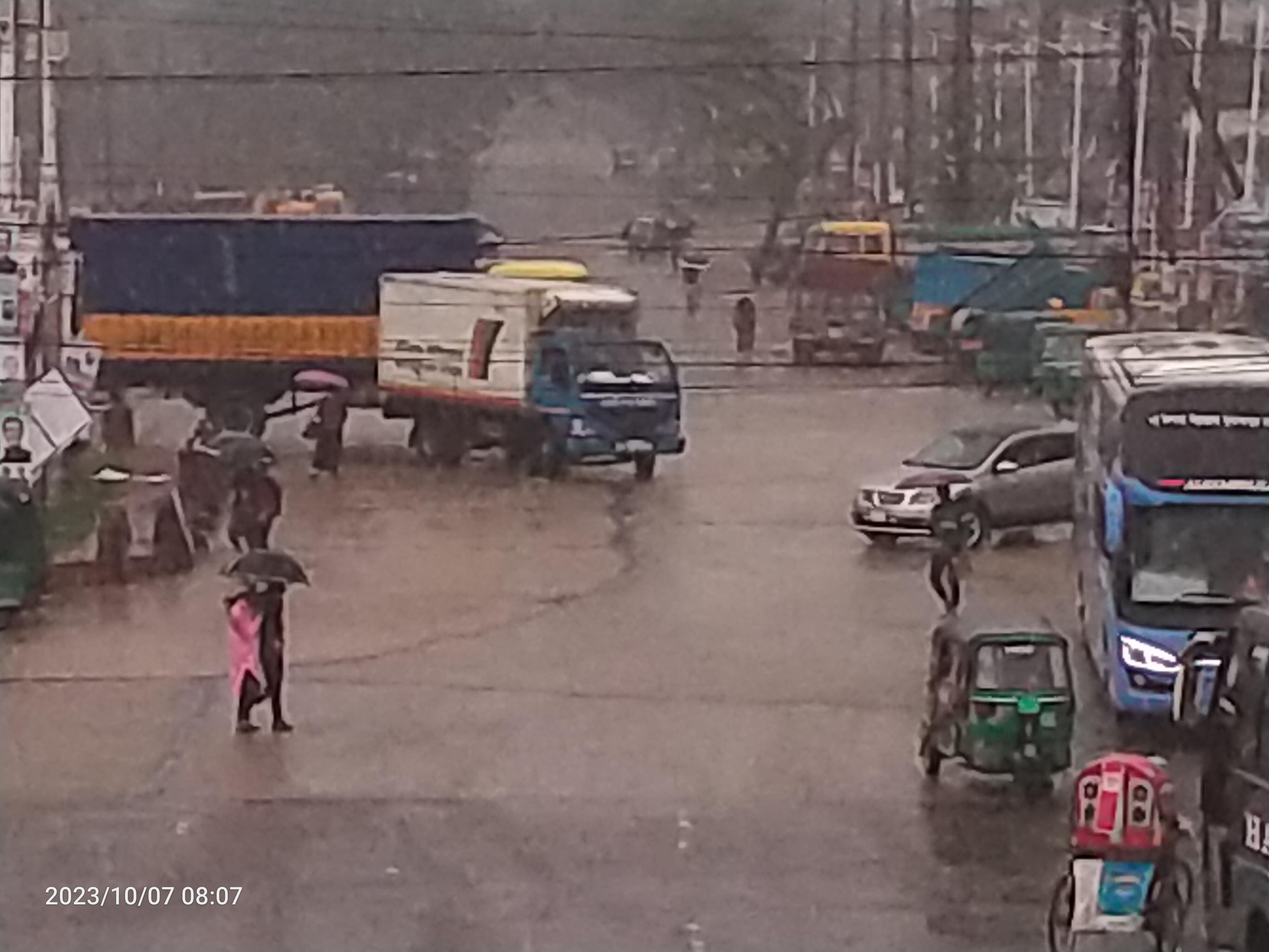Bus: (1063, 313, 1269, 730)
Car: (837, 385, 1088, 560), (1032, 745, 1215, 952)
Truck: (38, 186, 496, 441), (361, 257, 702, 511), (772, 208, 902, 384)
